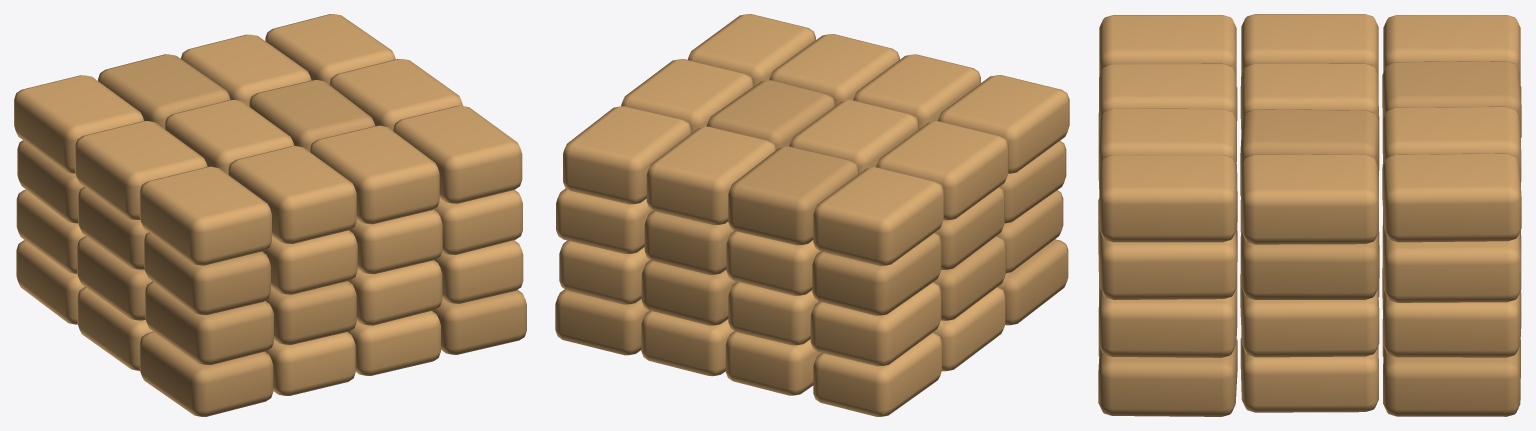
The model's file is NJD-23.glb.
3 views of the same model, side by side, from view 1: azimuth 30°, elevation 25°; view 2: azimuth 150°, elevation 25°; view 3: azimuth 270°, elevation 25° (orthographic). The views are drawn at different scales.
Visible parts, largest first — view 1: handmade block.036, handmade block.039, handmade block.042, handmade block.045, handmade block.037, handmade block.038, handmade block, handmade block.012, handmade block.024, handmade block.046, handmade block.040, handmade block.041 (+18 smaller); view 2: handmade block.038, handmade block.041, handmade block.047, handmade block.044, handmade block.037, handmade block.036, handmade block.014, handmade block.002, handmade block.026, handmade block.046, handmade block.040, handmade block.039 (+18 smaller); view 3: handmade block.046, handmade block.047, handmade block.045, handmade block.035, handmade block.009, handmade block.011, handmade block.021, handmade block.033, handmade block.022, handmade block.010, handmade block.034, handmade block.023 (+9 smaller).
Part boxes in pixels (left/top/right/bottom): handmade block.036: left=139, top=166, right=271, bottom=265; handmade block.039: left=228, top=146, right=356, bottom=243; handmade block.042: left=310, top=125, right=439, bottom=224; handmade block.045: left=393, top=105, right=522, bottom=203; handmade block.037: left=75, top=121, right=207, bottom=219; handmade block.038: left=14, top=75, right=143, bottom=173; handmade block: left=139, top=331, right=273, bottom=416; handmade block.012: left=145, top=281, right=273, bottom=365; handmade block.024: left=144, top=232, right=270, bottom=315; handmade block.046: left=329, top=59, right=462, bottom=130; handmade block.040: left=164, top=100, right=294, bottom=174; handmade block.041: left=98, top=54, right=230, bottom=128; handmade block.038: left=813, top=167, right=943, bottom=265; handmade block.041: left=728, top=146, right=858, bottom=245; handmade block.047: left=563, top=106, right=691, bottom=204; handmade block.044: left=646, top=126, right=776, bottom=225; handmade block.037: left=876, top=121, right=1008, bottom=220; handmade block.036: left=938, top=75, right=1069, bottom=173; handmade block.014: left=810, top=282, right=941, bottom=366; handmade block.002: left=813, top=332, right=942, bottom=416; handmade block.026: left=812, top=232, right=941, bottom=315; handmade block.046: left=621, top=59, right=753, bottom=132; handmade block.040: left=789, top=100, right=918, bottom=173; handmade block.039: left=853, top=54, right=980, bottom=128; handmade block.046: left=1241, top=154, right=1378, bottom=244; handmade block.047: left=1382, top=153, right=1521, bottom=242; handmade block.045: left=1099, top=155, right=1236, bottom=242; handmade block.035: left=1382, top=224, right=1521, bottom=302; handmade block.009: left=1098, top=338, right=1237, bottom=416; handmade block.011: left=1383, top=339, right=1520, bottom=416; handmade block.021: left=1098, top=287, right=1237, bottom=357; handmade block.033: left=1098, top=222, right=1237, bottom=299; handmade block.022: left=1240, top=279, right=1379, bottom=357; handmade block.010: left=1240, top=337, right=1378, bottom=412; handmade block.034: left=1241, top=224, right=1378, bottom=299; handmade block.023: left=1383, top=287, right=1520, bottom=357.
Size of the model in its own units: 1.94 by 1.09 by 1.85.
